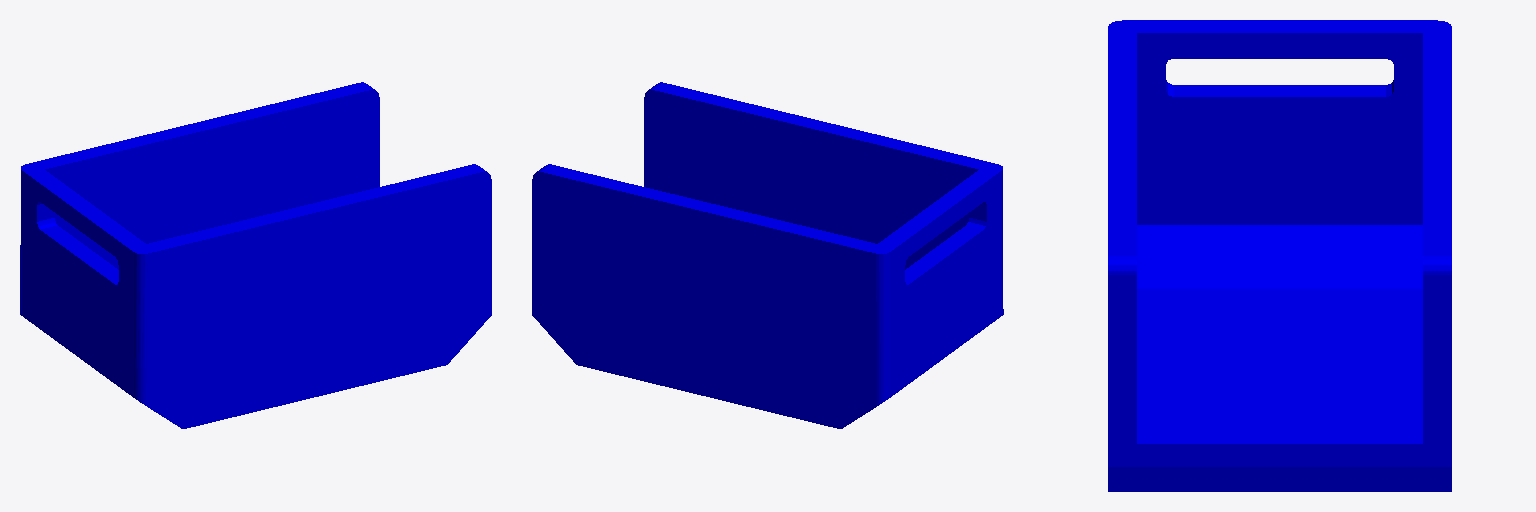
URDF robot description (box_container):
<?xml version="1.0"?>
<robot name="box_container">
  <link name="box_link">
  
    <visual>
      <origin xyz="0 0 0" rpy="0 0 0"/>
      <geometry>
        <mesh filename="package://my_objects/meshes/Caja.stl" scale="0.017 0.017 0.017"/>
      </geometry>
      <material name="blue">
        <color rgba="0 0 1 1"/>
      </material>
    </visual>

    <collision>
      <origin xyz="0 0 0" rpy="0 0 0"/>
      <geometry>
        <mesh filename="package://my_objects/meshes/Caja.stl" scale="0.017 0.017 0.017"/>
      </geometry>
    </collision>

    <inertial>
      <mass value="1.0"/>
      <origin xyz="0 0 0" rpy="0 0 0"/>
      <inertia ixx="1e-3" ixy="0.0" ixz="0.0"
               iyy="1e-3" iyz="0.0"
               izz="1e-3"/>
    </inertial>

  </link>
</robot>

--- What the picture shows (computed from the rendered views, not written in the file) ---
The picture shows the robot from 3 angles, left to right: view 1: azimuth 30°, elevation 25°; view 2: azimuth 150°, elevation 25°; view 3: azimuth 270°, elevation 25°; orthographic projection.
Robot: box_container — 1 links, 0 joints (none); root link box_link; default pose: all joints at 0.
Links seen in each view (by area): view 1: box_link; view 2: box_link; view 3: box_link.
Boxes of the visible links, x1,y1,x2,y2 form: box_link: (20, 82, 491, 428); box_link: (532, 82, 1003, 428); box_link: (1108, 20, 1451, 491).
Bounding box of the posed robot: 0.34 × 0.204 × 0.17 m (x, y, z).
Meshes: 1 distinct files referenced, 1 mesh visuals loaded (1 binary STL).